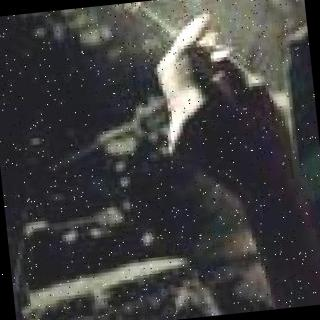smoke: (74, 0, 300, 9)
